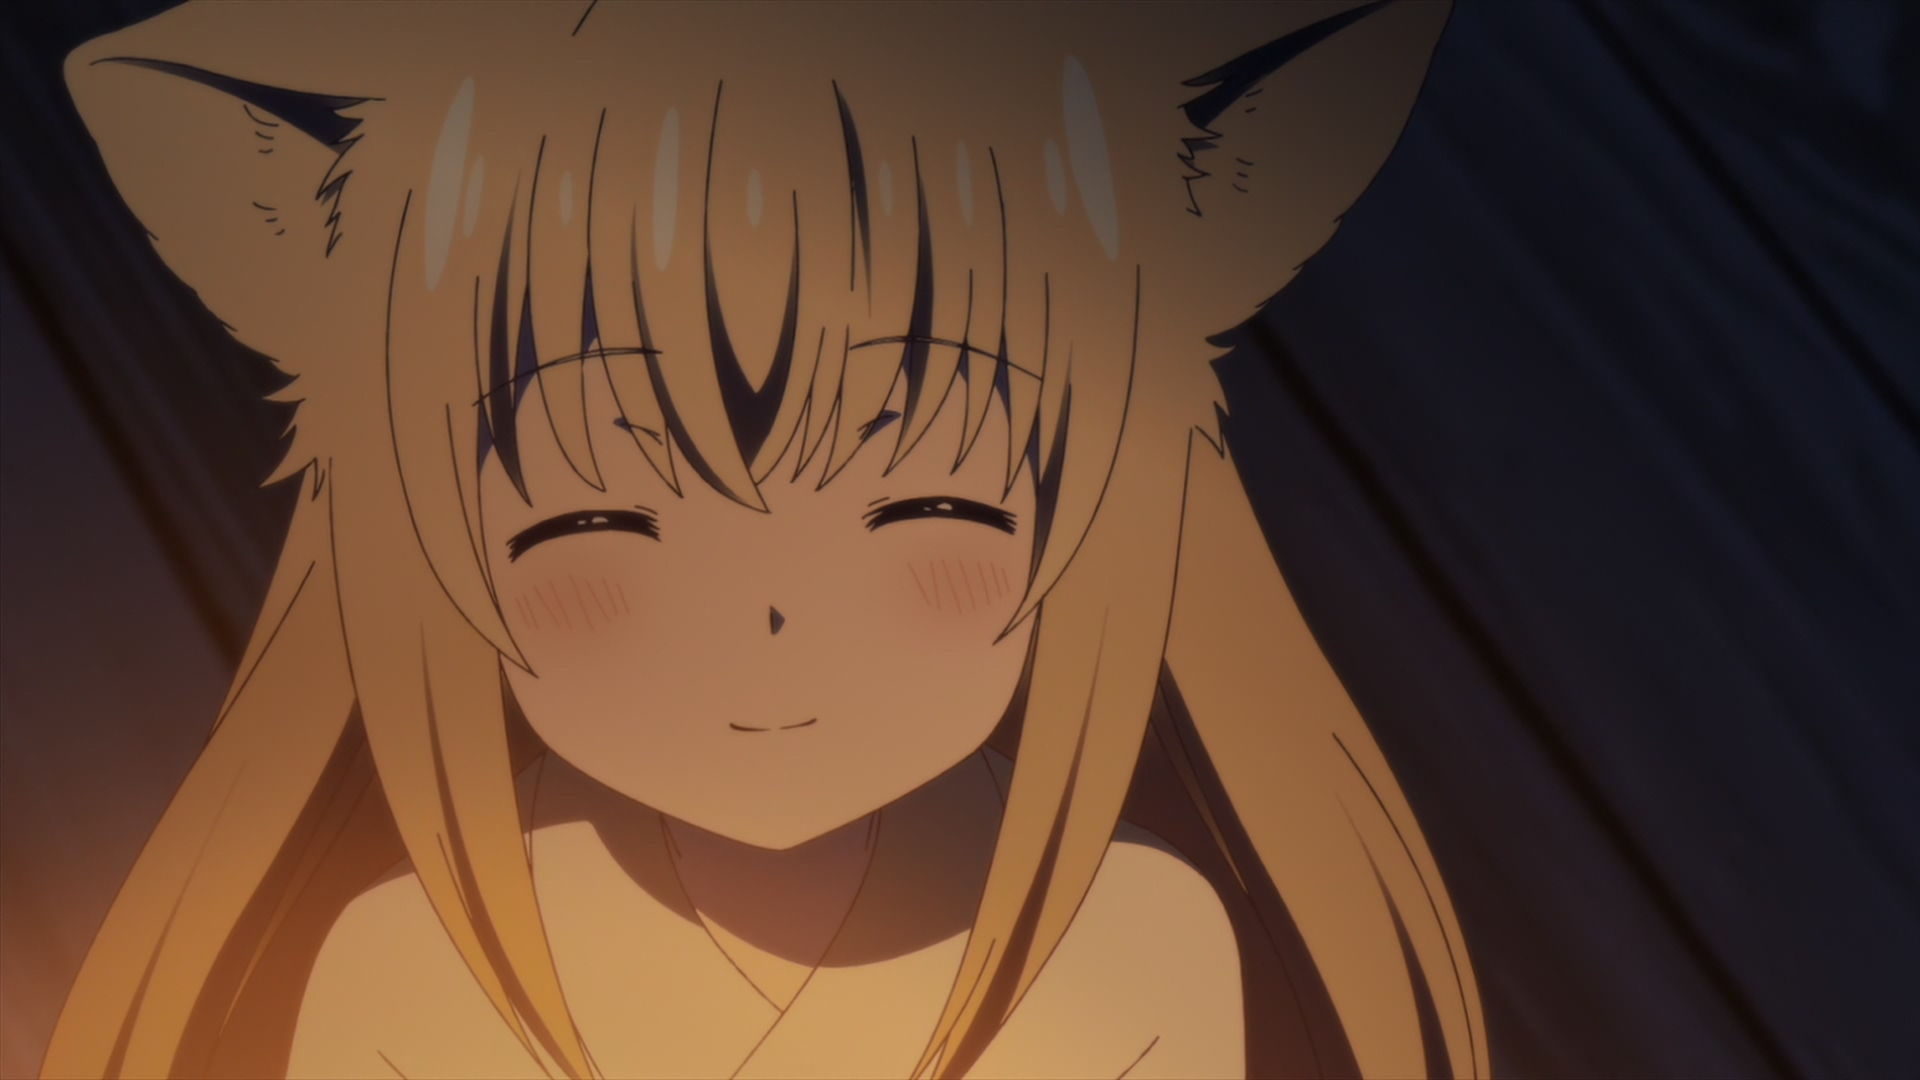柚: (41, 1, 1493, 1080)
